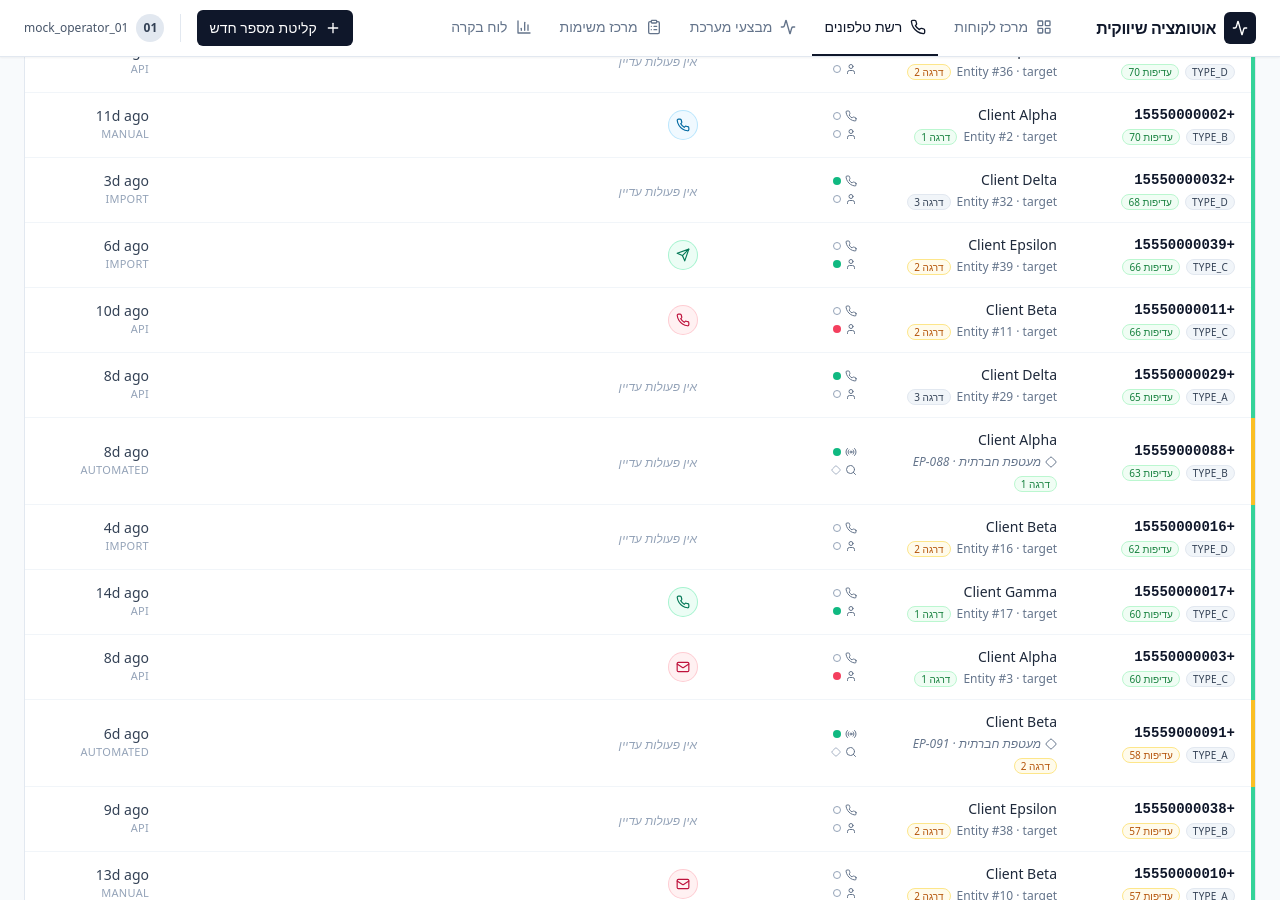
Test: Phase DY-4-D — partial identify label in Truth Panel › renders "אדם מזוהה · זיהוי חלקי" after a name-only identify submit
(page scrolled)
# Open the raw envelope row.
Click the text "+15559000088".
click(1185, 450)  # box [1134,442,1235,458]
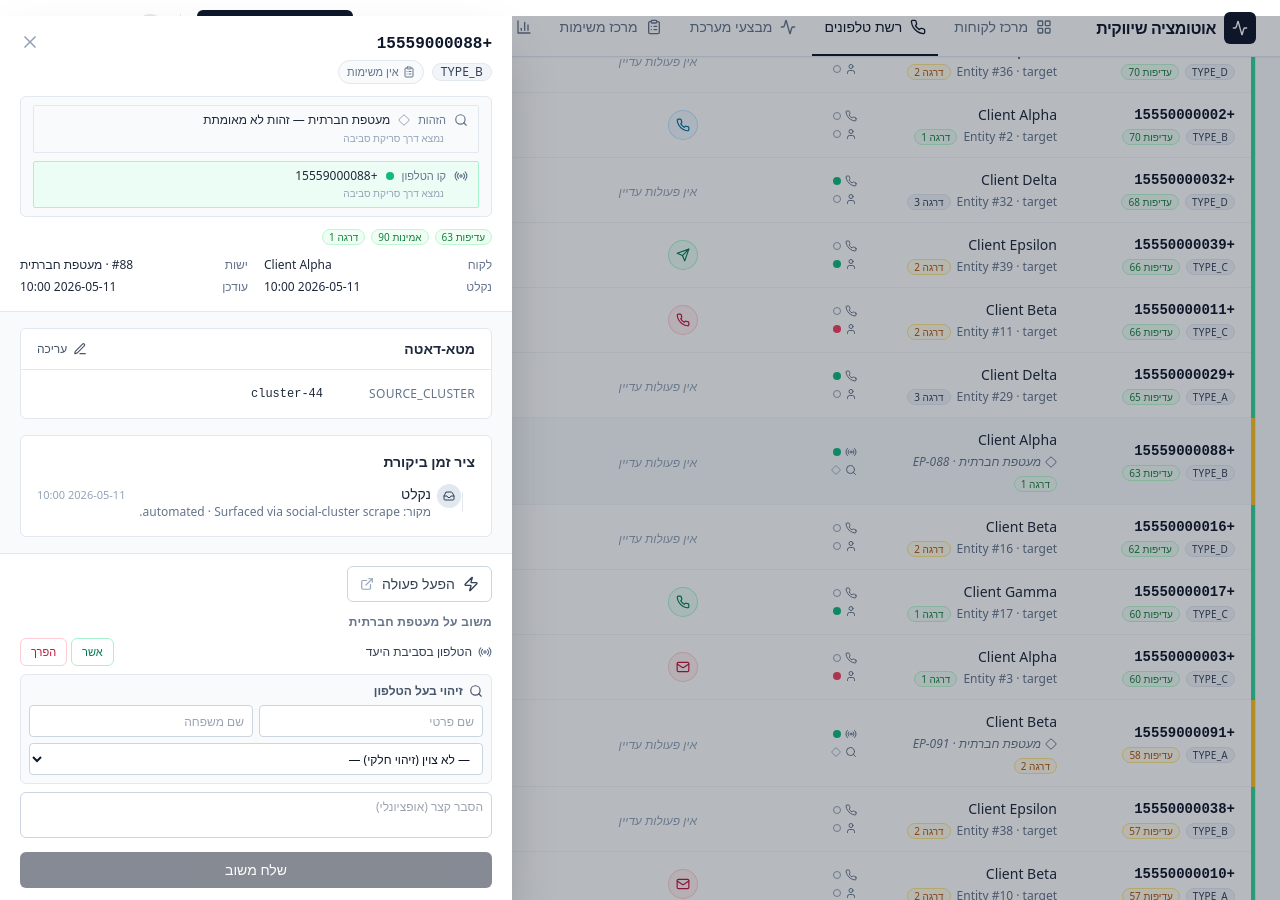
Expected: the text "מעטפת חברתית — זהות לא מאומתת" is shown, [203,112,390,128]
# Type a name in the identify form, leave relation untouched.
Type "Mary" into the field with placeholder "שם פרטי".
click(371, 721); type("Mary")  # box [259,705,483,737]
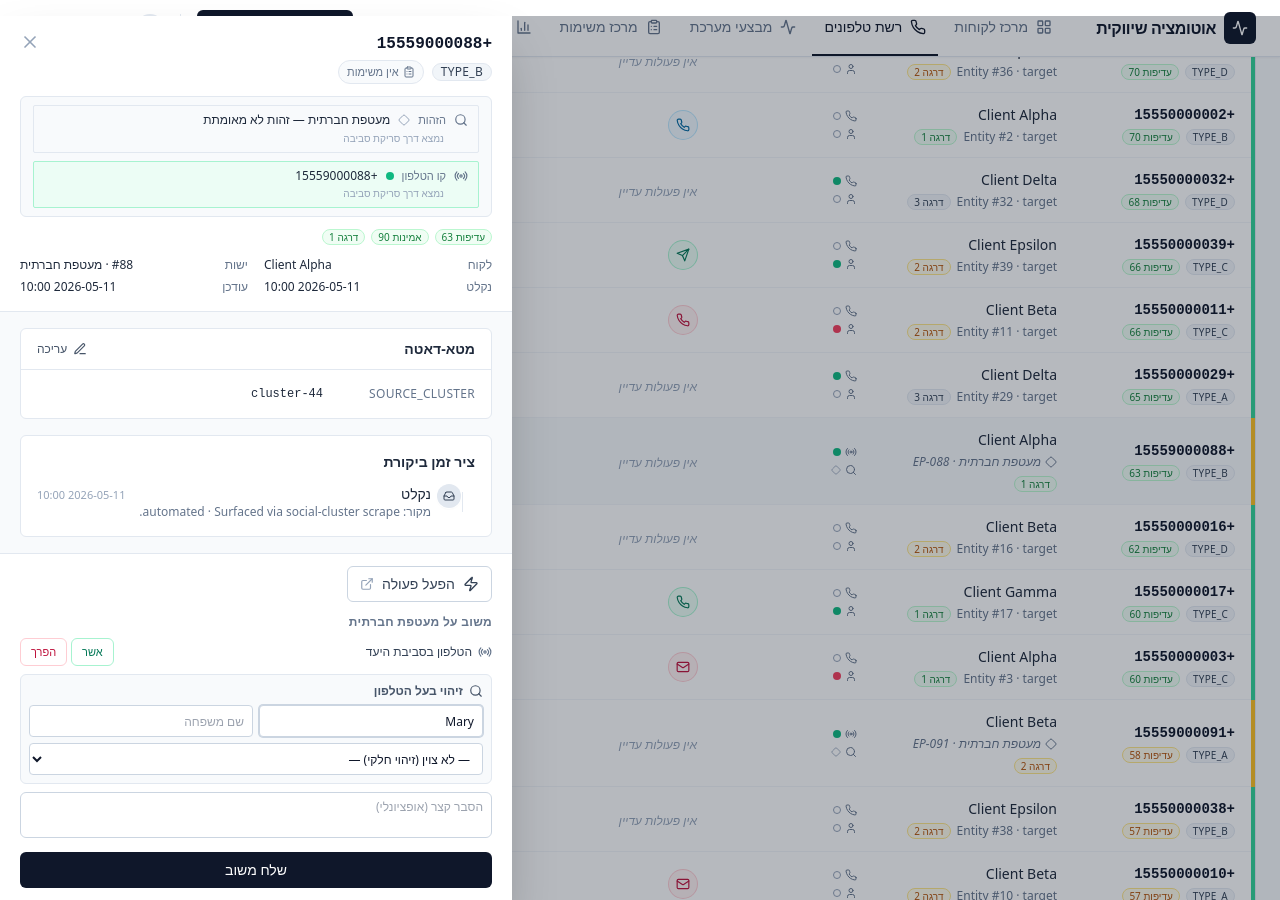
Click the button "שלח משוב".
click(256, 870)  # box [20,852,492,888]
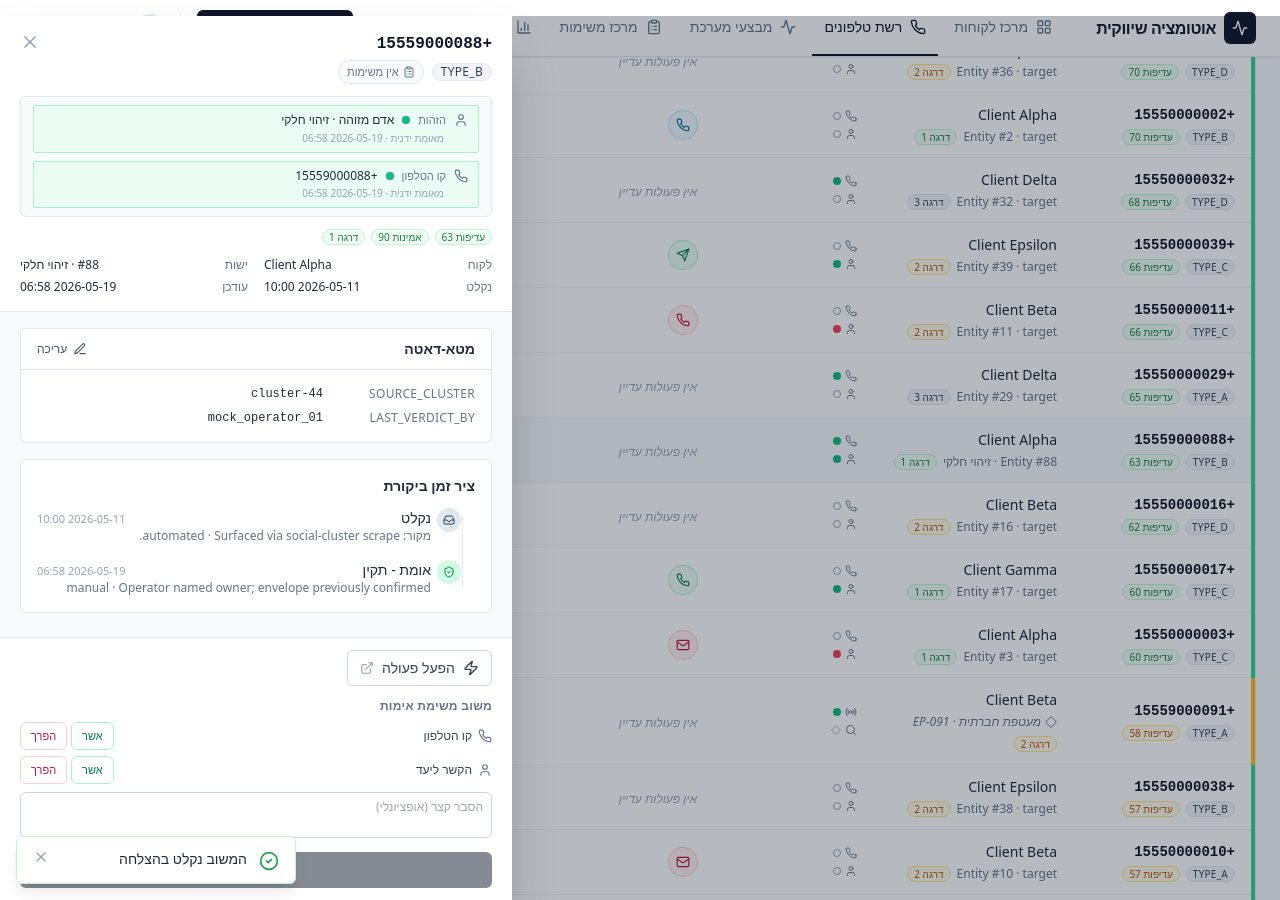
Expected: the text "המשוב נקלט בהצלחה" is shown, [119,849,247,868]
Expected: the text "אדם מזוהה · זיהוי חלקי" is shown, [281,112,394,128]
